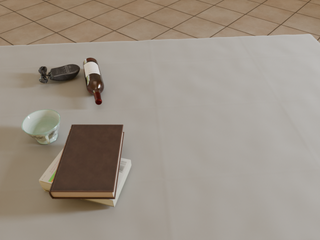book: (49, 125, 124, 199), (39, 149, 131, 207)
bottle: (83, 58, 104, 105)
cup: (22, 109, 60, 144)
mouse: (38, 64, 80, 83)
